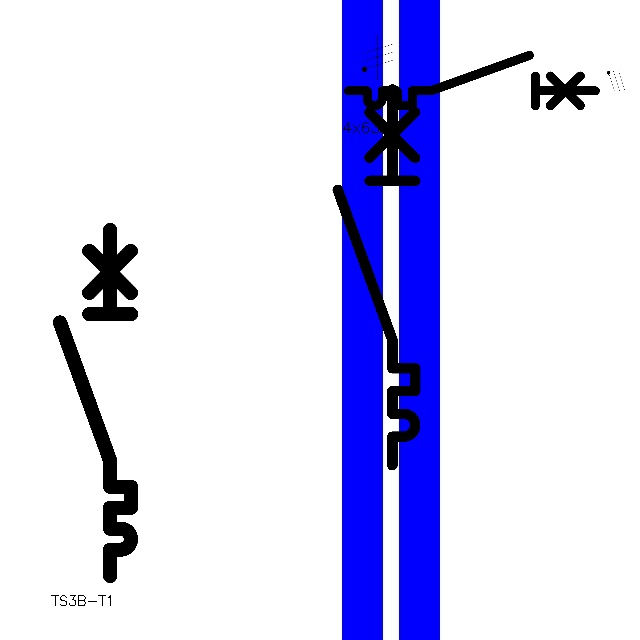interruptor_termomagnetico: (328, 79, 425, 474), (51, 221, 140, 585), (342, 49, 601, 112)
